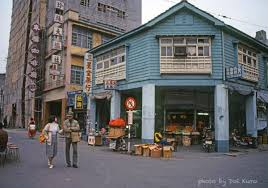people: (63, 112, 80, 165), (42, 117, 58, 168), (27, 117, 35, 140)
